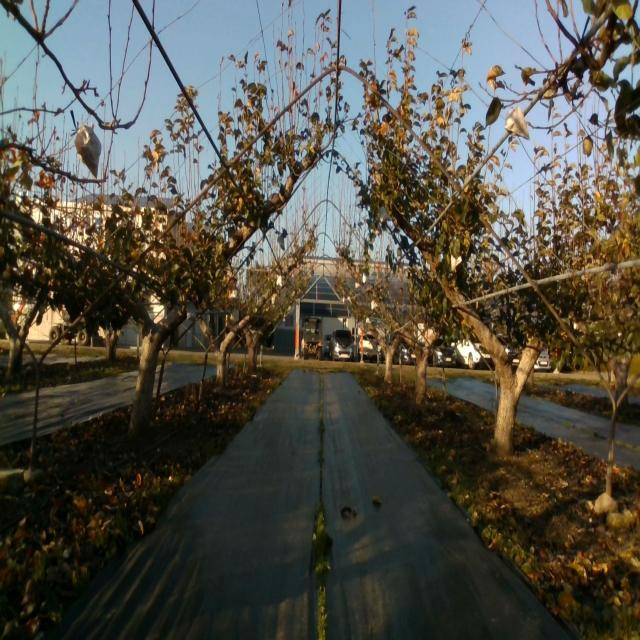pearbags: (74, 122, 102, 181), (504, 106, 530, 141), (378, 206, 392, 225), (186, 302, 196, 320)
